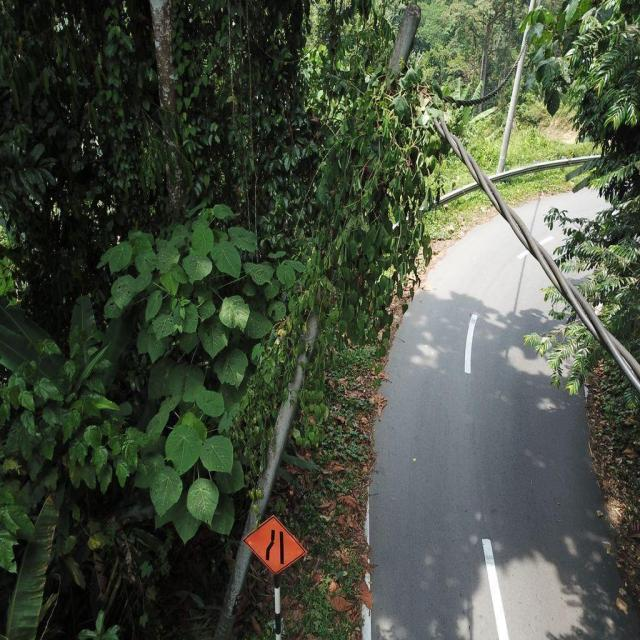critical vegetation: (228, 50, 455, 470)
